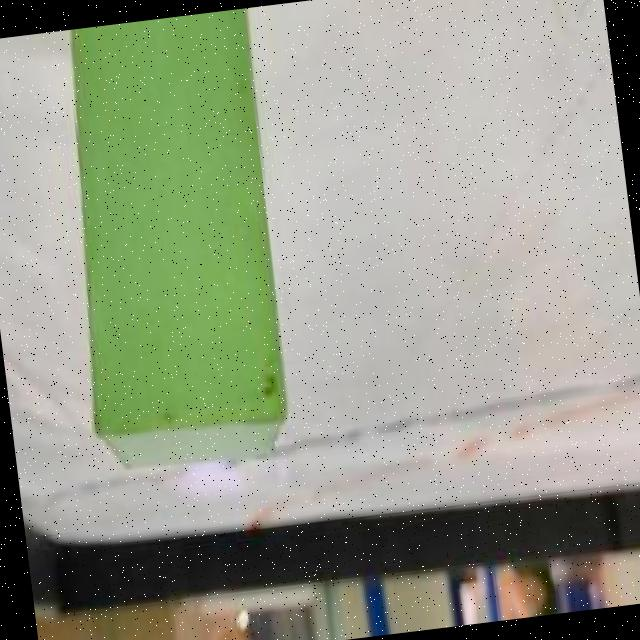greenbox: (41, 7, 306, 484)
